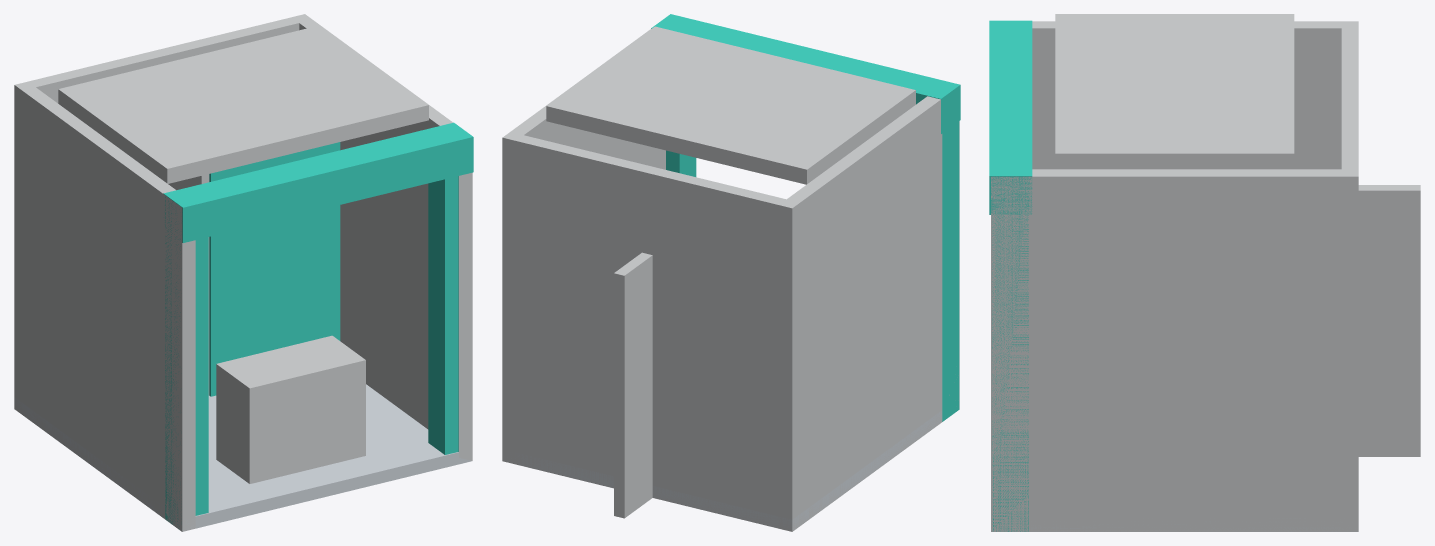
The picture shows the model from 3 angles, left to right: view 1: azimuth 30°, elevation 25°; view 2: azimuth 150°, elevation 25°; view 3: azimuth 270°, elevation 25°; orthographic projection. The views are drawn at different scales.
Parts seen in each view (by area): view 1: Exhibition Booth Concept; view 2: Exhibition Booth Concept; view 3: Exhibition Booth Concept.
Part boxes in pixels (box(x1,y1,x2,y2)): Exhibition Booth Concept: box(14, 14, 473, 531); Exhibition Booth Concept: box(502, 14, 960, 531); Exhibition Booth Concept: box(989, 14, 1420, 531).
Bounding box in the file's own units: 3 × 3.34 × 3.52.
